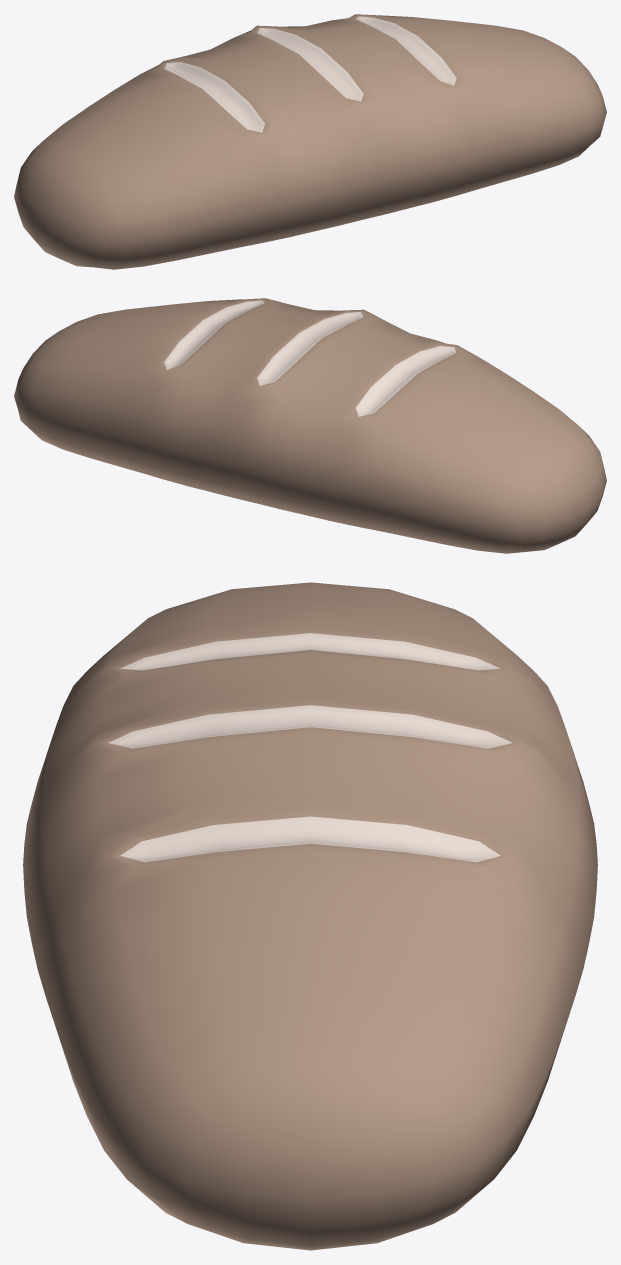
File: Bread.glb
3 views of the same model, one above another, from view 1: azimuth 30°, elevation 25°; view 2: azimuth 150°, elevation 25°; view 3: azimuth 270°, elevation 25° (orthographic). The views are drawn at different scales.
Parts seen in each view (by area): view 1: Bread_1; view 2: Bread_1; view 3: Bread_1.
Part boxes in pixels (bbox=[...]): Bread_1: bbox=[14, 14, 606, 269]; Bread_1: bbox=[14, 298, 606, 553]; Bread_1: bbox=[23, 582, 597, 1250].
Bounding box in the file's own units: 0.5929 × 0.1526 × 0.265.
1 material, 1 textured.
